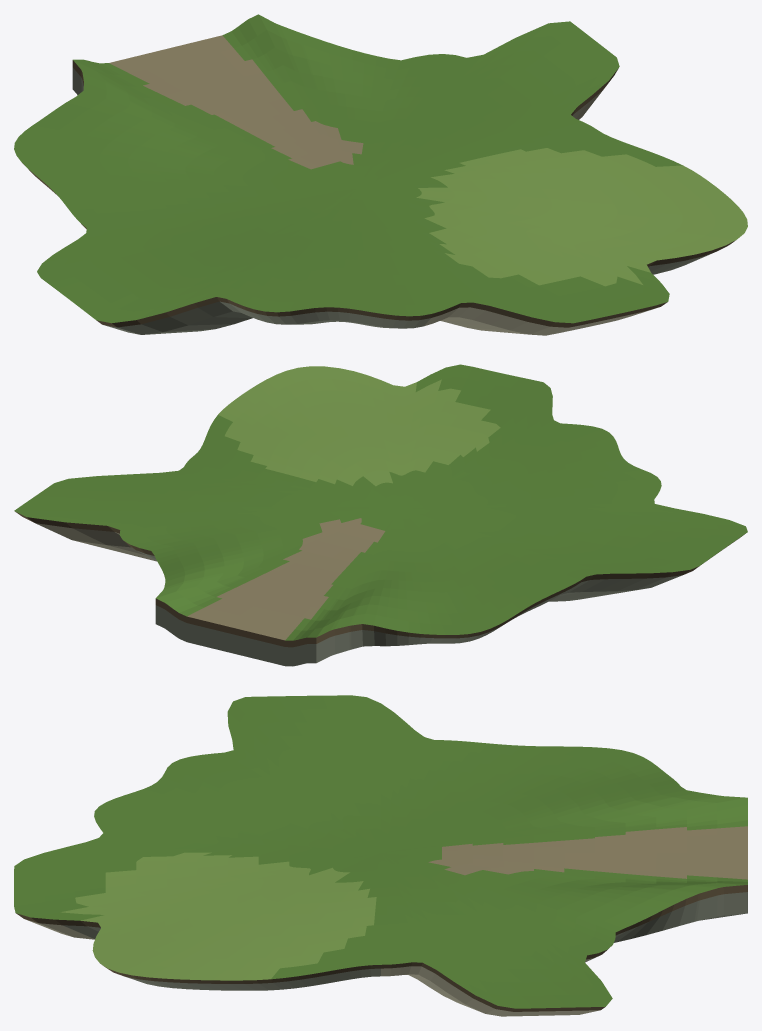
Rendered from entry_dawn_meadow_structure.fbx.
The picture shows the model from 3 angles, top to bottom: view 1: azimuth 30°, elevation 25°; view 2: azimuth 150°, elevation 25°; view 3: azimuth 270°, elevation 25°; orthographic projection. The views are drawn at different scales.
Visible parts, largest first — view 1: chunk_entry_dawn_meadow; view 2: chunk_entry_dawn_meadow; view 3: chunk_entry_dawn_meadow.
Boxes of the visible parts, x1,y1,x2,y2 form: chunk_entry_dawn_meadow: [14, 14, 747, 335]; chunk_entry_dawn_meadow: [14, 364, 747, 666]; chunk_entry_dawn_meadow: [14, 695, 747, 1016].
Bounding box in the file's own units: 256 × 39.38 × 256.
